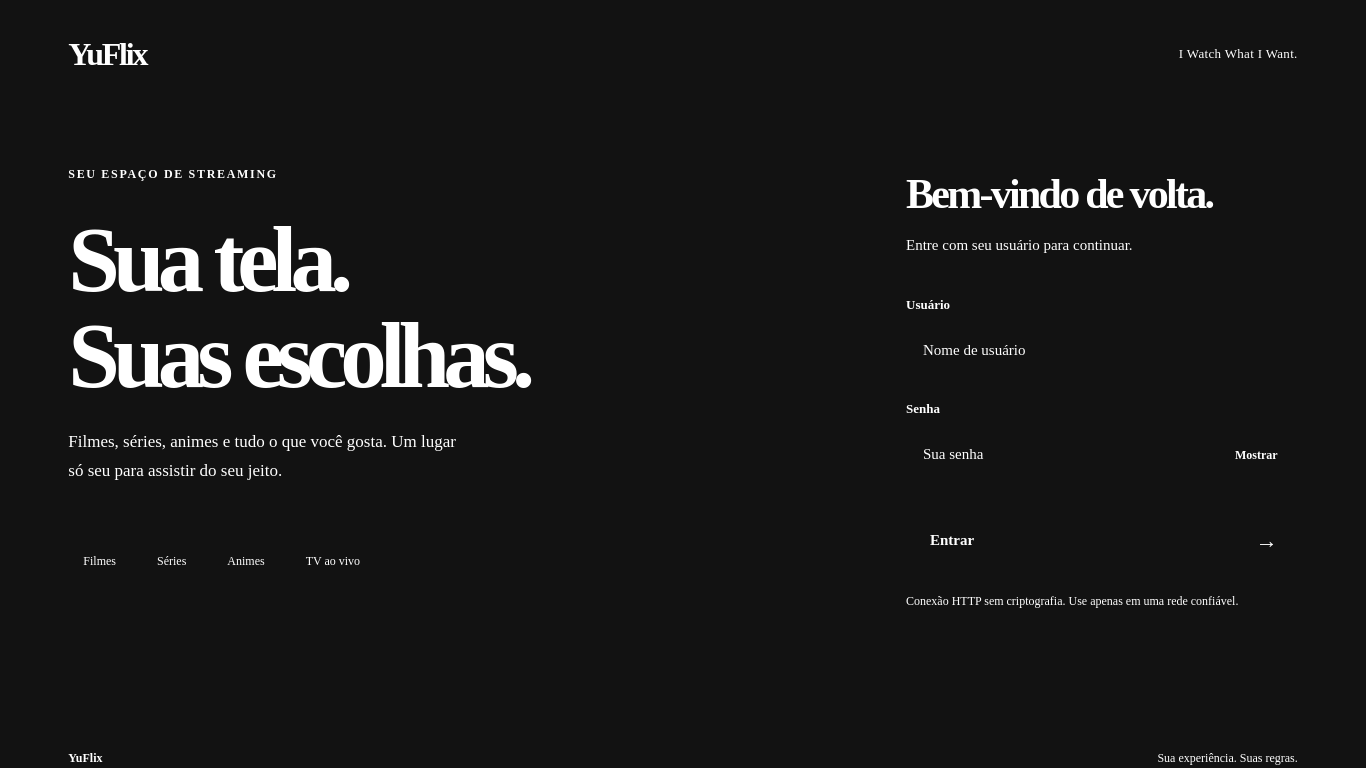
Test: YuFlix authentication experience › does not leak authentication details when the password is incorrect
The width and height of the screenshot is (1366, 768).
Expected: the heading "Bem-vindo de volta." is shown, [906, 171, 1212, 217]
Type "owner" into the field labelled "Usuário" at [1102, 351], box [906, 323, 1298, 379]
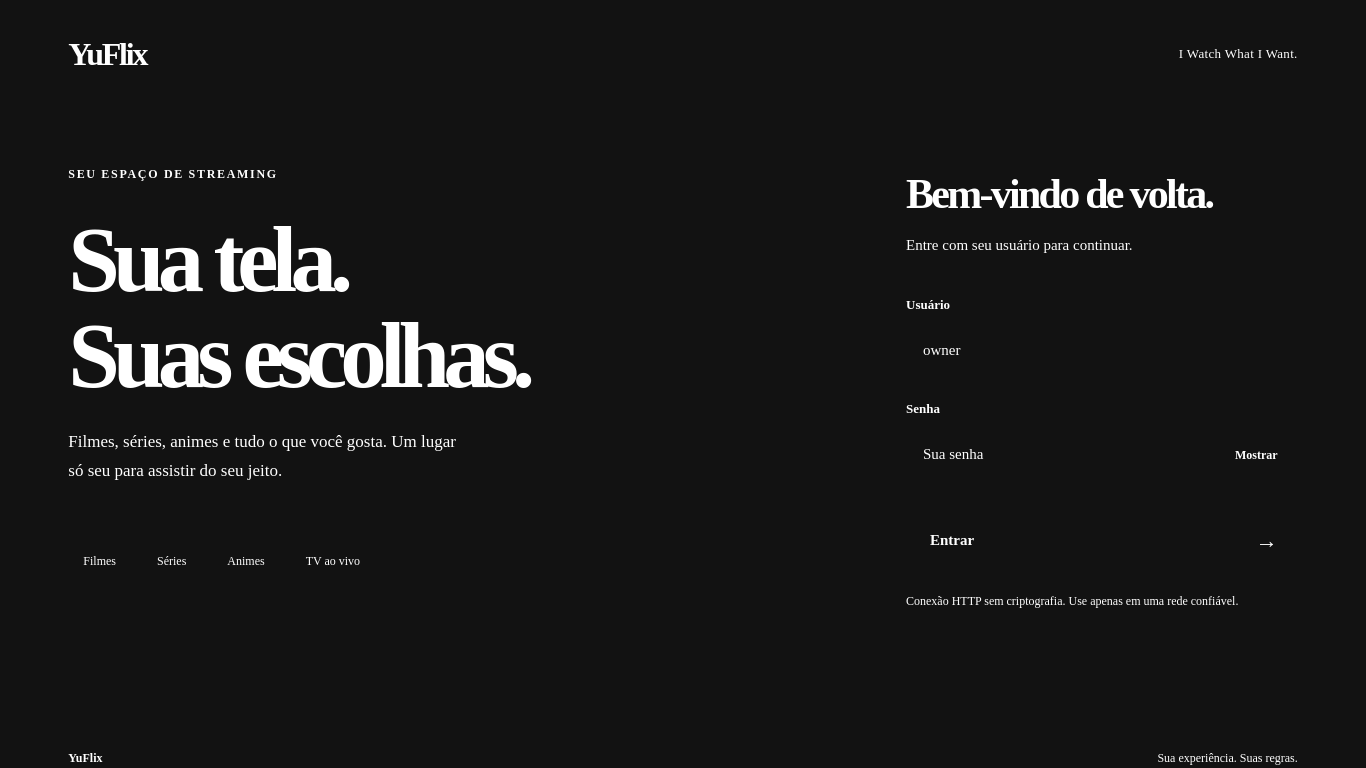
Type "incorrect passphrase" into the password field labelled "Senha" at [1102, 455], box [906, 427, 1298, 483]
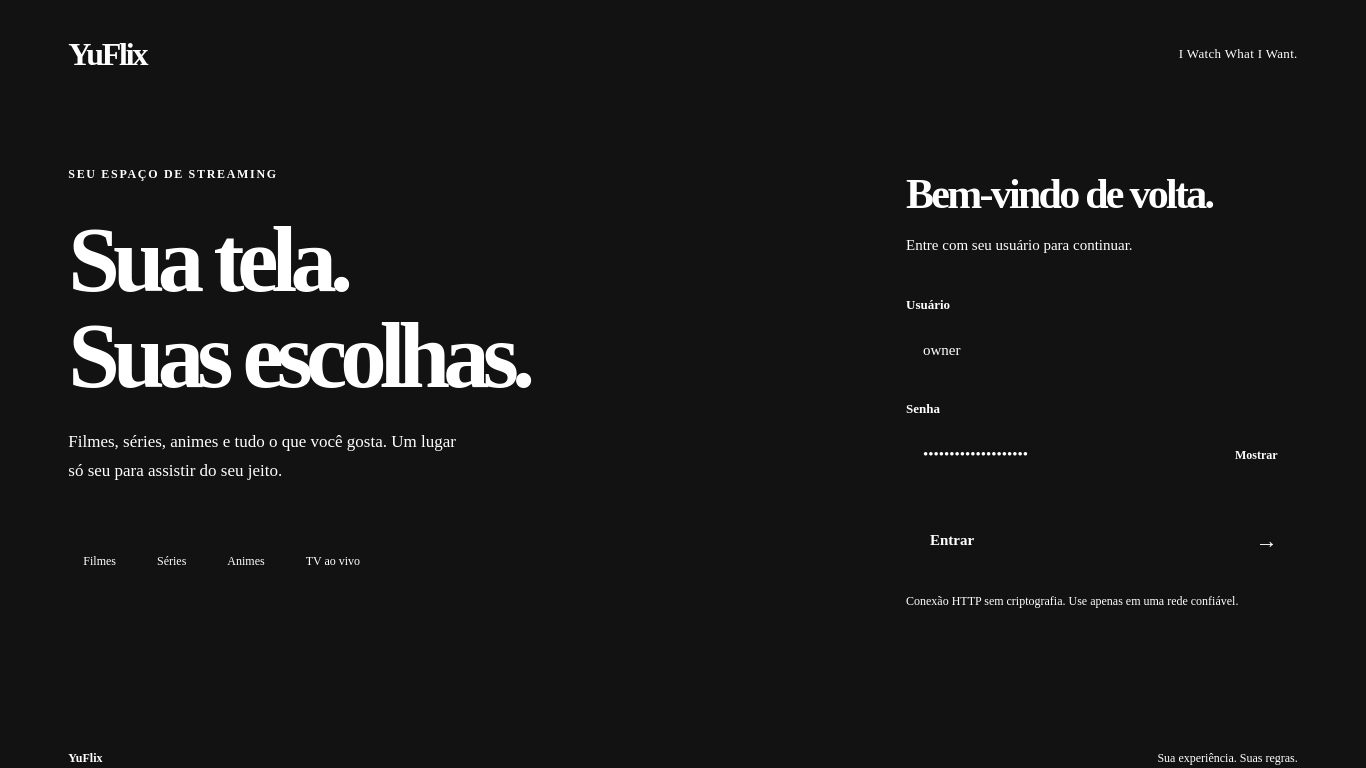
Click the button "Entrar →" at [952, 540], box [906, 512, 1298, 570]
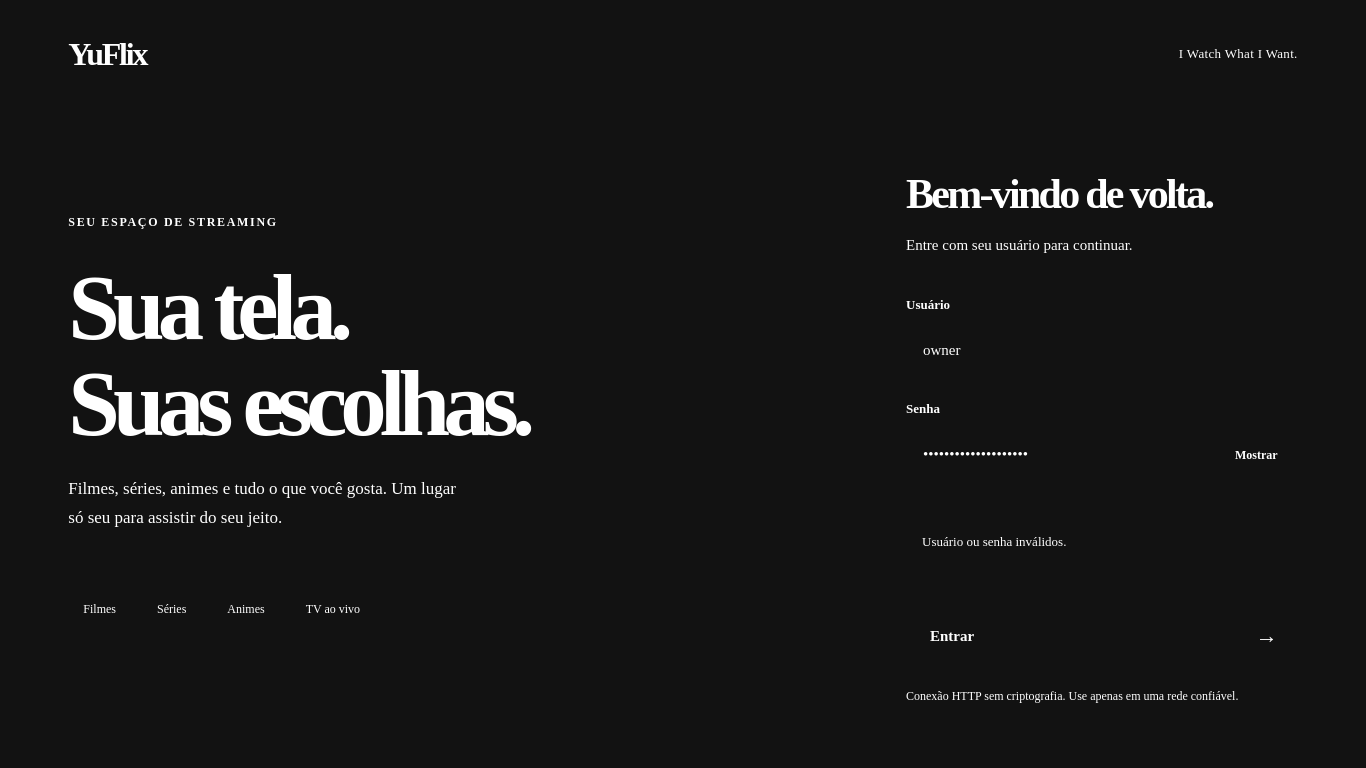
Expected: the message reads "Usuário ou senha inválidos.", [922, 534, 1066, 549]
